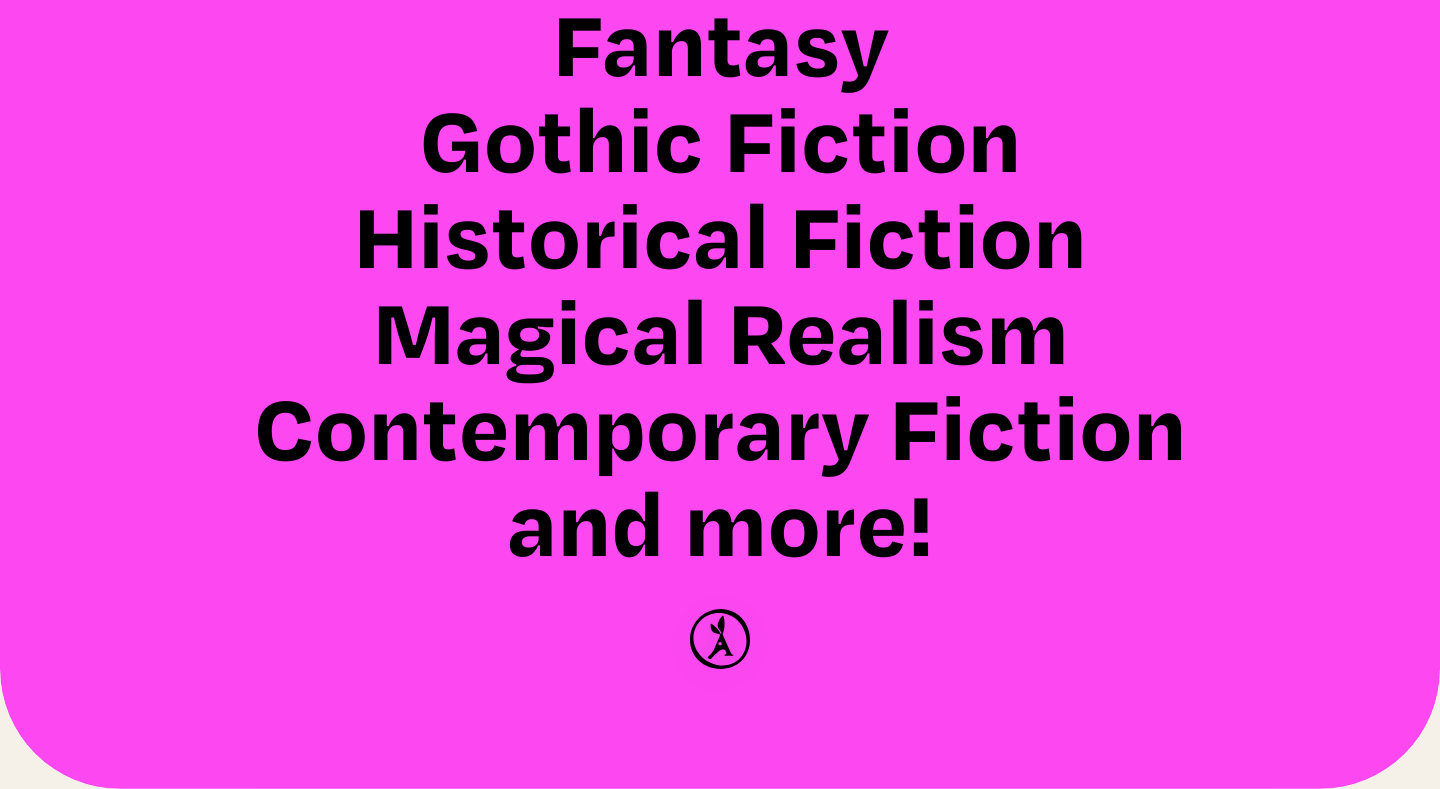
ChooseFromSection Component › toggles easter egg popup and triggers onSignUpClick
The width and height of the screenshot is (1440, 789).
Later steps or results of the test are not shown.
(page scrolled)
# Click trigger button
Click the button with test id "choose-from-easter-egg-trigger" at (720,639), box [690, 609, 750, 669]
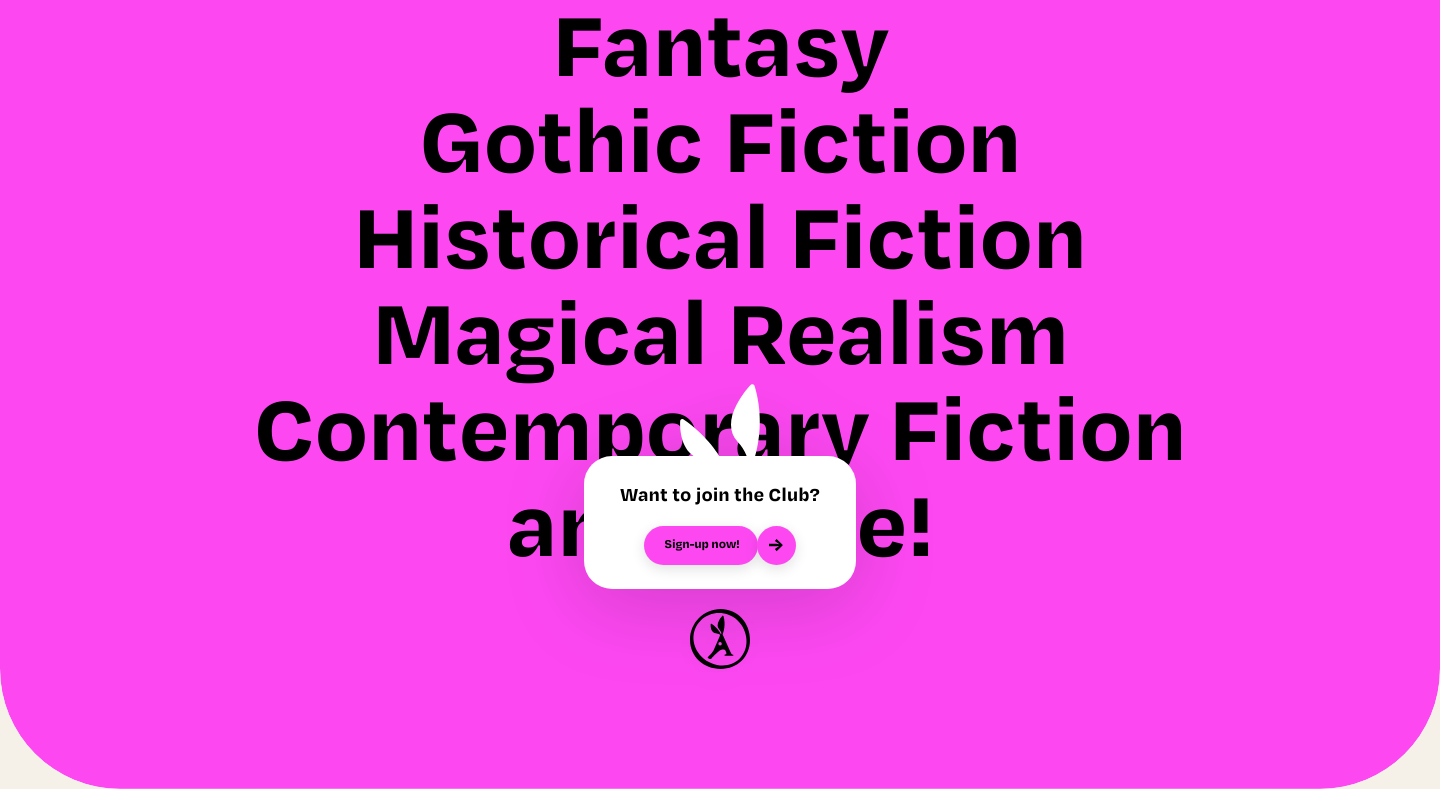
Now the element with test id "choose-from-easter-egg-popup" is shown, box [584, 419, 856, 589]
Now the heading "Want to join the Club?" is shown, box [620, 480, 820, 510]
